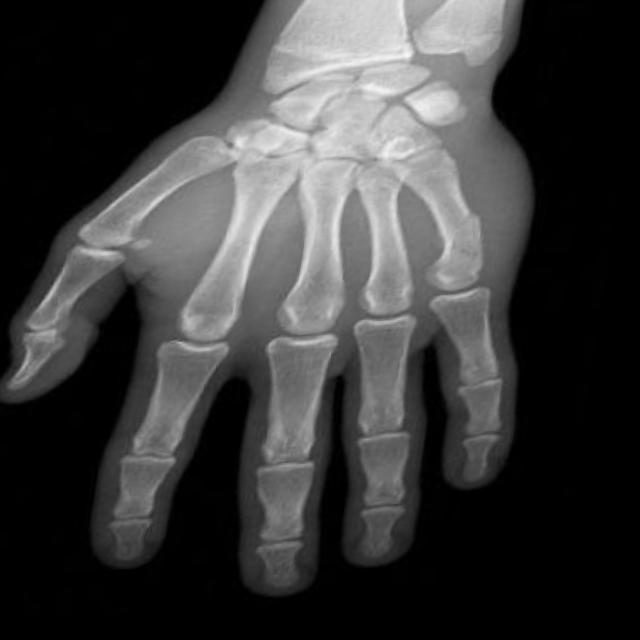fracture: (440, 227, 505, 275)
